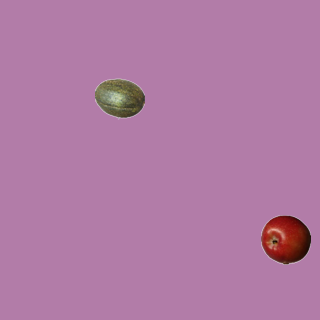Apple Braeburn: (260, 214, 310, 264)
Melon Piel de Sapo: (94, 73, 144, 123)
